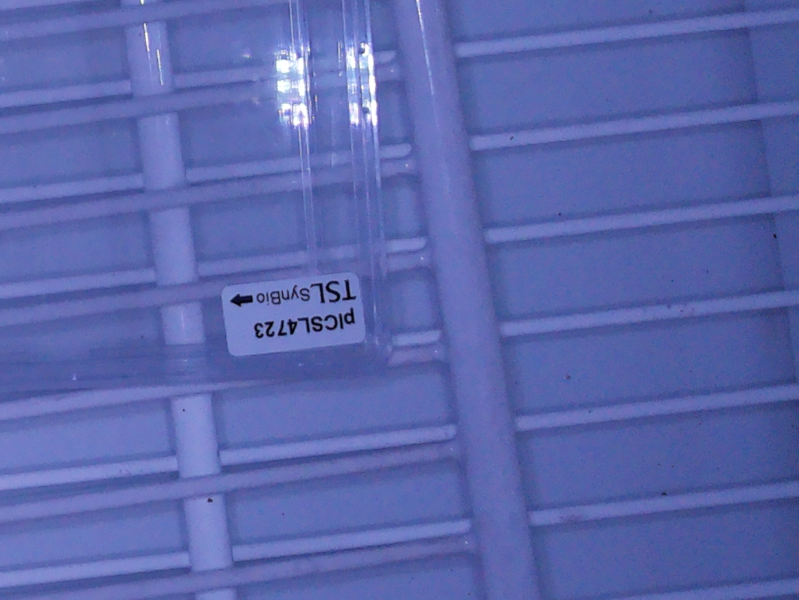plate: (1, 1, 396, 400)
